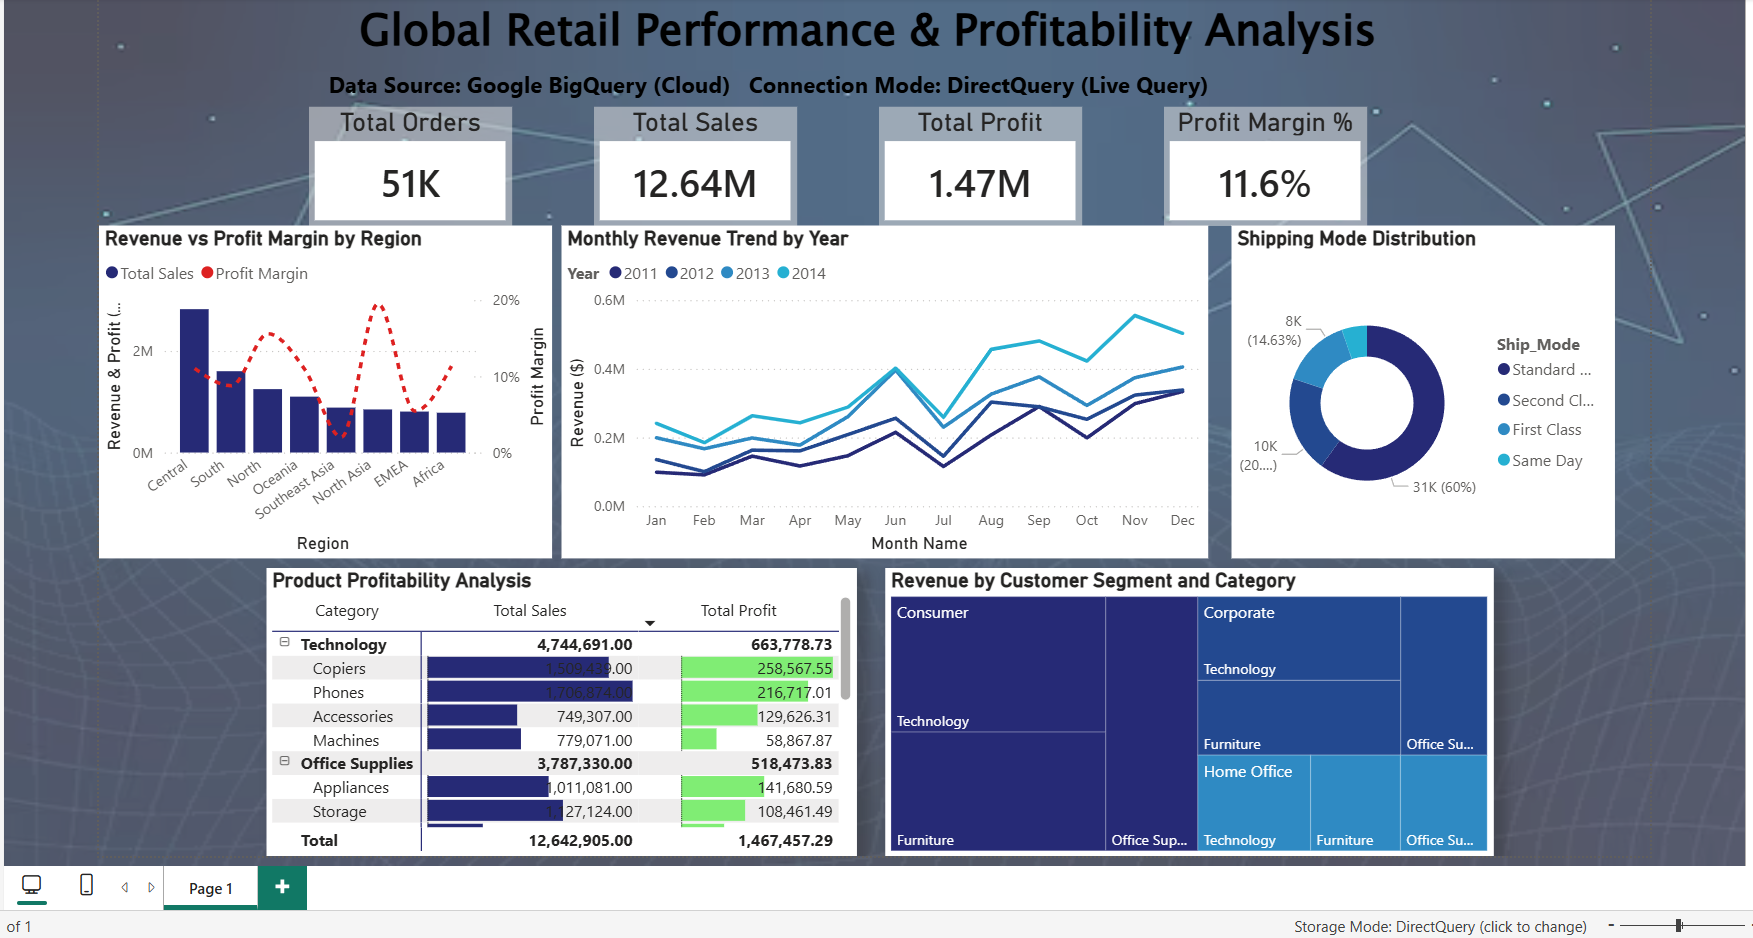

This screenshot's page, from the dashboard's own definition file:
{"tool":"powerbi","page":{"name":"Page 1","canvas":[1300,720],"ordinal":0},"visuals":[{"type":"cardVisual","title":"Total Sales","fields":{"Data":["Sum(vw_regional_performance.Total_Sales)"]},"box":[414.9,90.7,170,100],"z":0,"group":"g2"},{"type":"lineChart","title":"Monthly Revenue Trend by Year","fields":{"Y":["Sum(vw_monthly_sales.Monthly_Sales)"],"Series":["vw_monthly_sales.Year"],"Category":["vw_monthly_sales.Month Name"]},"box":[388.3,190.7,542.2,279.1],"z":1000},{"type":"cardVisual","title":"Total Profit","fields":{"Data":["Sum(vw_regional_performance.Total_Profit)"]},"box":[654,90.7,170,100],"z":2000,"group":"g2"},{"type":"textbox","title":"Global Retail Performance & Profitability Analysis","box":[187.2,0,914.4,90.7],"z":3000},{"type":"cardVisual","title":"Total Orders","fields":{"Data":["Sum(vw_regional_performance.Total_Orders)"]},"box":[175.8,90.7,170,100],"z":4000,"group":"g2"},{"type":"lineClusteredColumnComboChart","title":"Revenue vs Profit Margin by Region","fields":{"Category":["vw_regional_performance.Region"],"Y":["Sum(vw_regional_performance.Total_Sales)"],"Y2":["vw_regional_performance.Profit Margin"]},"box":[0,190.7,380.2,279.1],"z":5000},{"type":"donutChart","title":"Shipping Mode Distribution","fields":{"Category":["vw_shipping_performance.Ship_Mode"],"Y":["Sum(vw_shipping_performance.Total_Orders)"]},"box":[950,190.7,321.6,279.1],"z":6000},{"type":"pivotTable","title":"Product Profitability Analysis","fields":{"Rows":["clean_superstore.Category","clean_superstore.Sub_Category"],"Values":["Sum(clean_superstore.Sales)","Sum(clean_superstore.Profit)"]},"box":[140.1,477.9,495.1,242.4],"z":7000},{"type":"treemap","title":"Revenue by Customer Segment and Category","fields":{"Group":["clean_superstore.Segment"],"Values":["Sum(clean_superstore.Sales)"],"Details":["clean_superstore.Category"]},"box":[659.4,477.9,510,242.4],"z":8000},{"type":"cardVisual","title":"Profit Margin %","fields":{"Data":["vw_regional_performance.Profit Margin"]},"box":[893.1,90.7,170,100],"z":10000,"group":"g2"},{"type":"group","id":"g1","title":"Group 1","box":[175.8,90.7,886.8,99.9],"z":10001},{"type":"group","id":"g2","title":"Group 2","box":[175.8,90.7,887.3,100],"z":10002,"group":"g1"}]}

Visuals, with their boxes on the page's 1300x720 design canvas (x1, y1, x2, y2). These are canvas units, not pixel positions in the 1753x938 screenshot, which may show the page scaled, cropped or inside an application window:
"Total Sales" cardVisual: [415, 91, 585, 191]
"Monthly Revenue Trend by Year" lineChart: [388, 191, 930, 470]
"Total Profit" cardVisual: [654, 91, 824, 191]
"Global Retail Performance & Profitability Analysis" textbox: [187, 0, 1102, 91]
"Total Orders" cardVisual: [176, 91, 346, 191]
"Revenue vs Profit Margin by Region" lineClusteredColumnComboChart: [0, 191, 380, 470]
"Shipping Mode Distribution" donutChart: [950, 191, 1272, 470]
"Product Profitability Analysis" pivotTable: [140, 478, 635, 720]
"Revenue by Customer Segment and Category" treemap: [659, 478, 1169, 720]
"Profit Margin %" cardVisual: [893, 91, 1063, 191]
"Group 1" group: [176, 91, 1063, 191]
"Group 2" group: [176, 91, 1063, 191]
